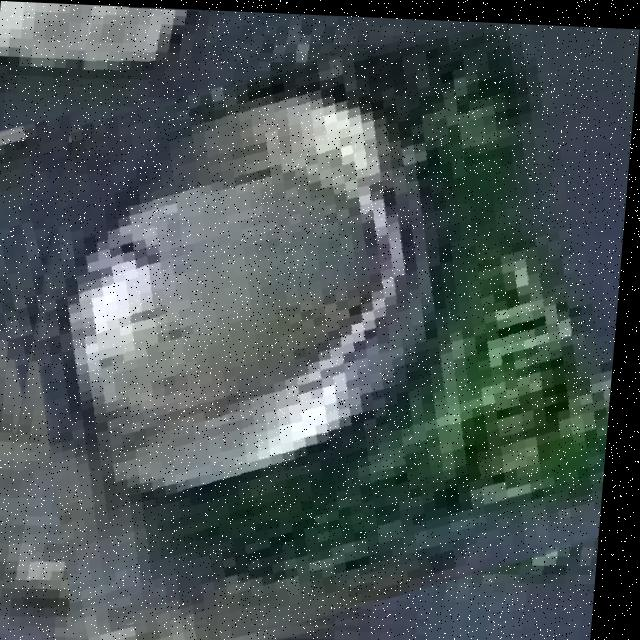can: (34, 17, 621, 623)
